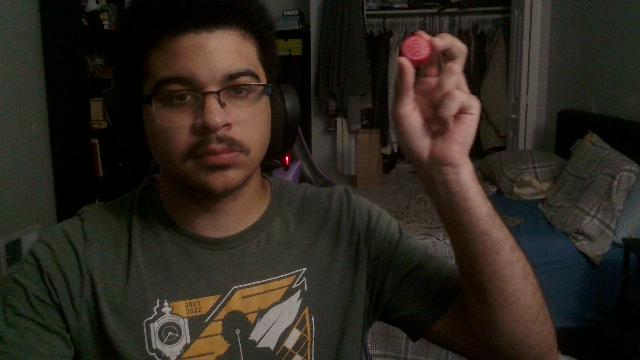cap: (401, 34, 431, 66)
